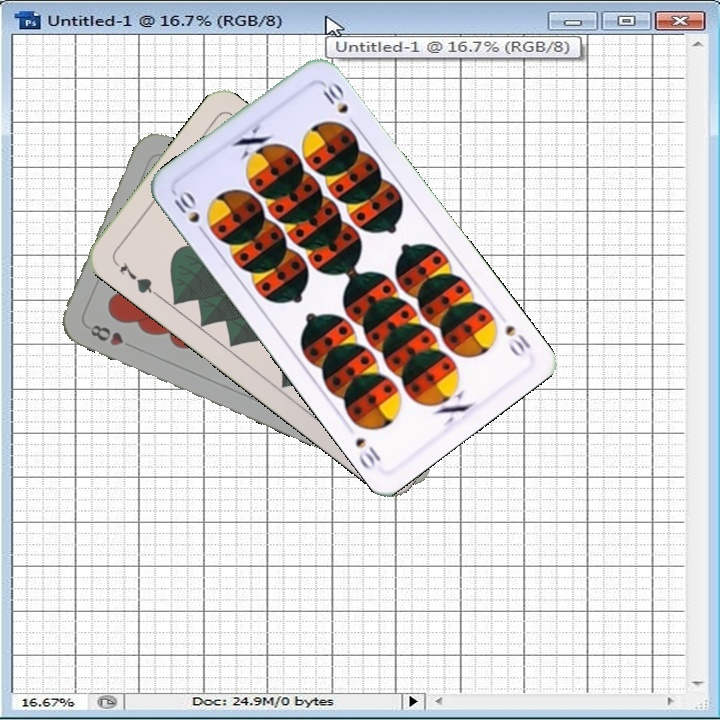G7: (110, 257, 160, 298)
H8: (86, 320, 126, 349)
S10: (169, 186, 210, 240), (501, 321, 534, 360)
